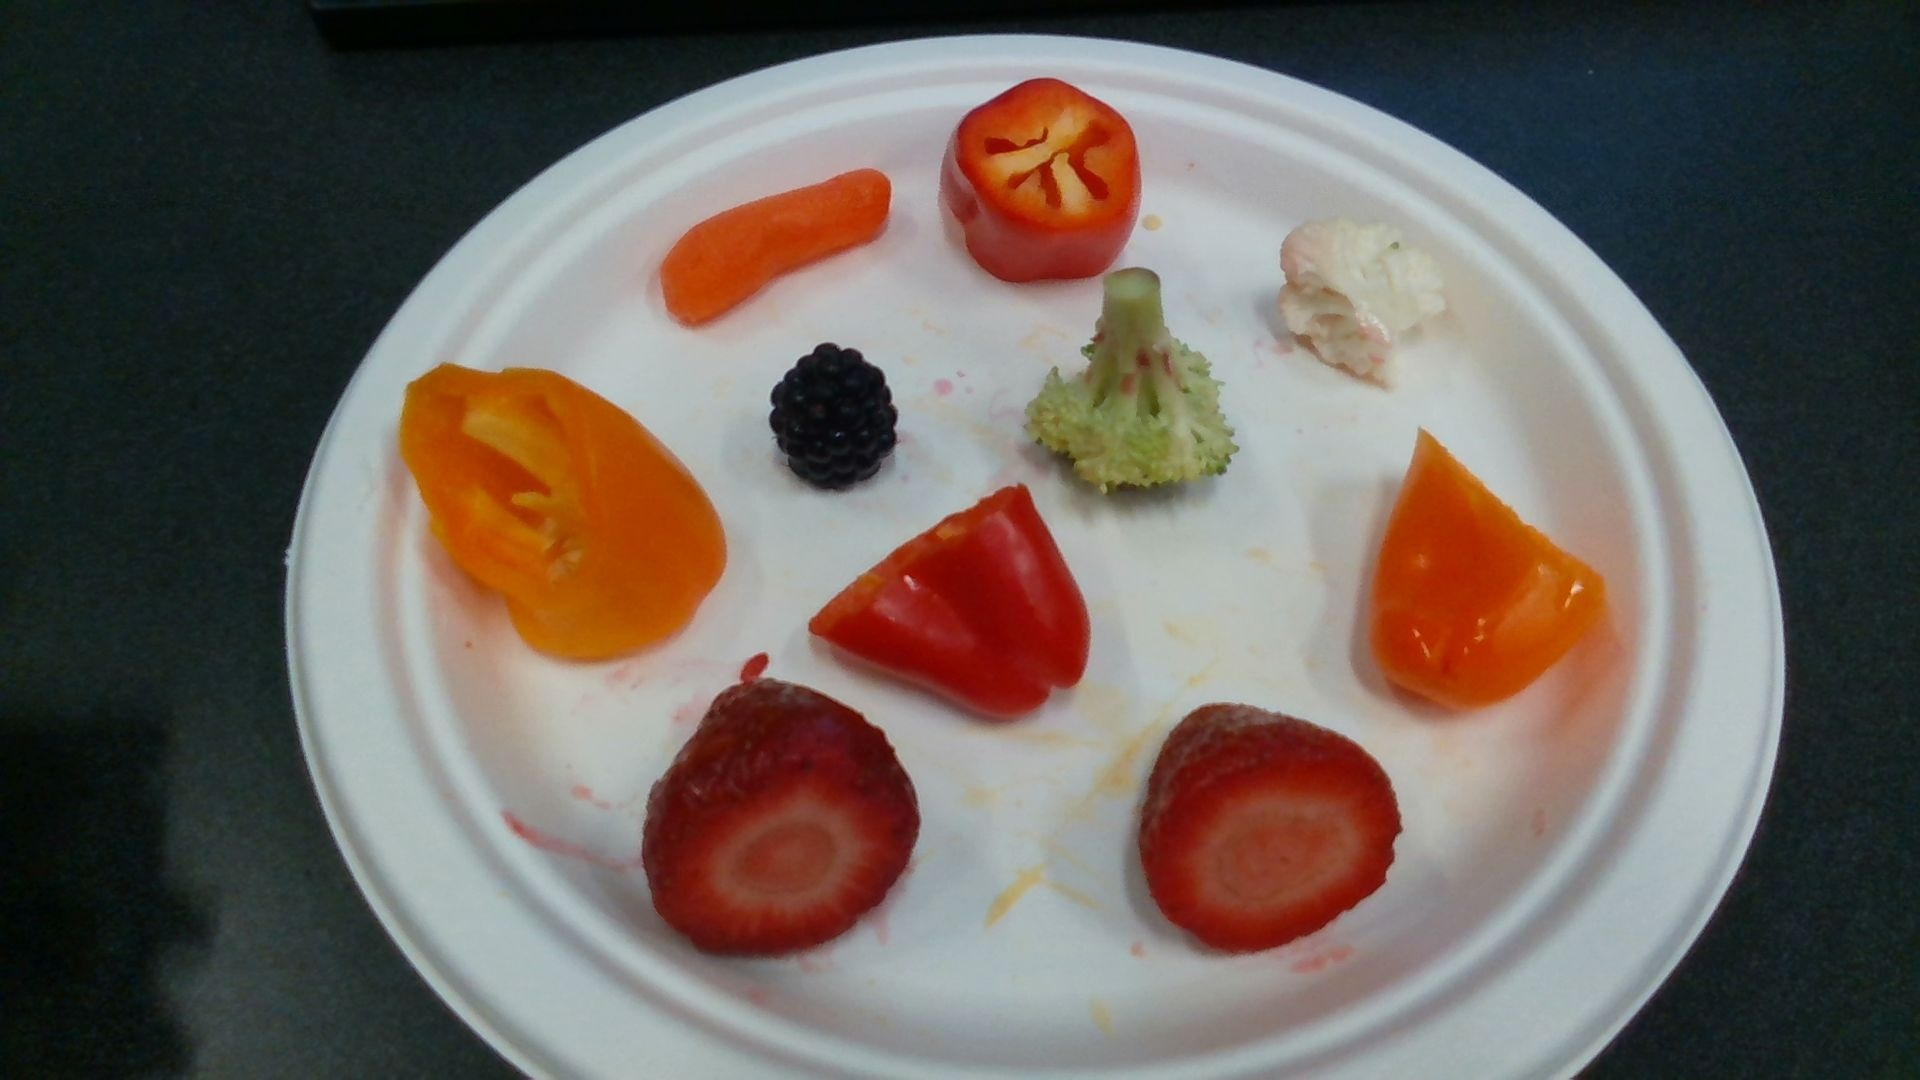bell_pepper: (404, 367, 727, 663), (812, 485, 1091, 720), (1375, 429, 1602, 708), (942, 78, 1142, 278)
blackberry: (774, 348, 895, 488)
broccoli: (1029, 270, 1234, 491)
carrot: (659, 171, 890, 328)
cauliflower: (1279, 216, 1447, 393)
strawberry: (647, 680, 922, 967), (1139, 703, 1396, 956)
